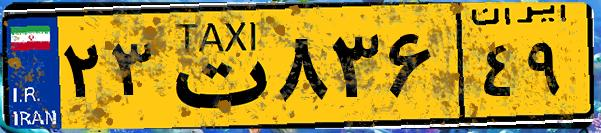2: (57, 26, 110, 100)
3: (330, 28, 385, 110), (110, 28, 158, 98)
4: (475, 38, 525, 113)
6: (385, 28, 445, 110)
8: (270, 28, 330, 110)
9: (525, 38, 570, 115)
ت: (158, 12, 270, 120)
